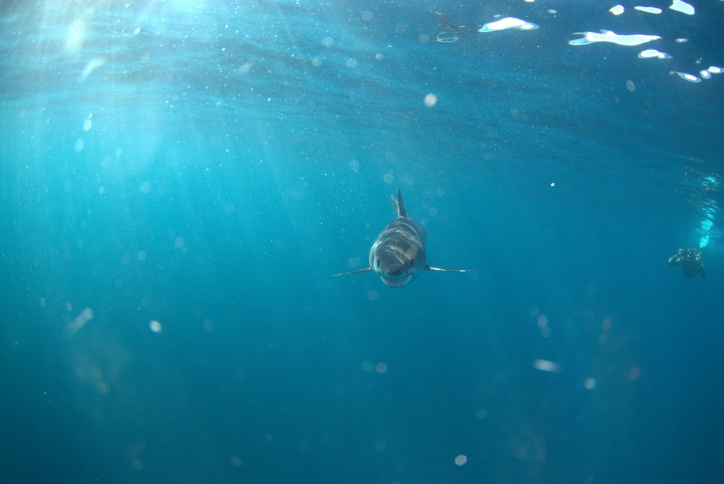Mako: (316, 177, 483, 306)
